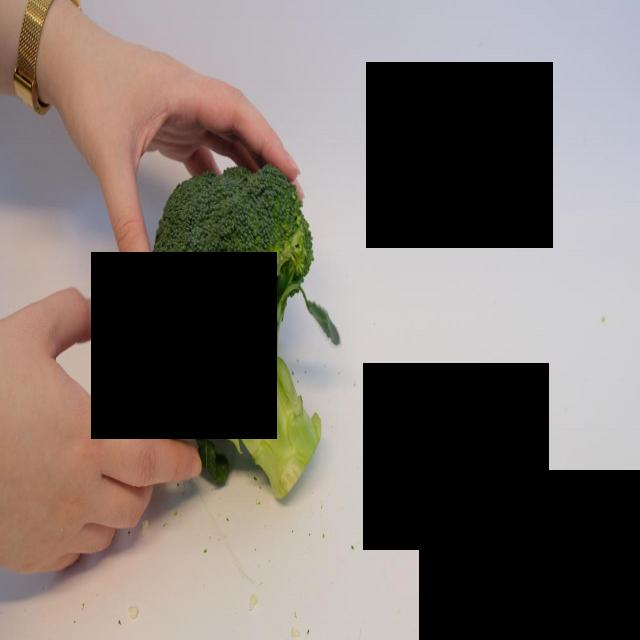broccoli: (139, 155, 336, 508)
